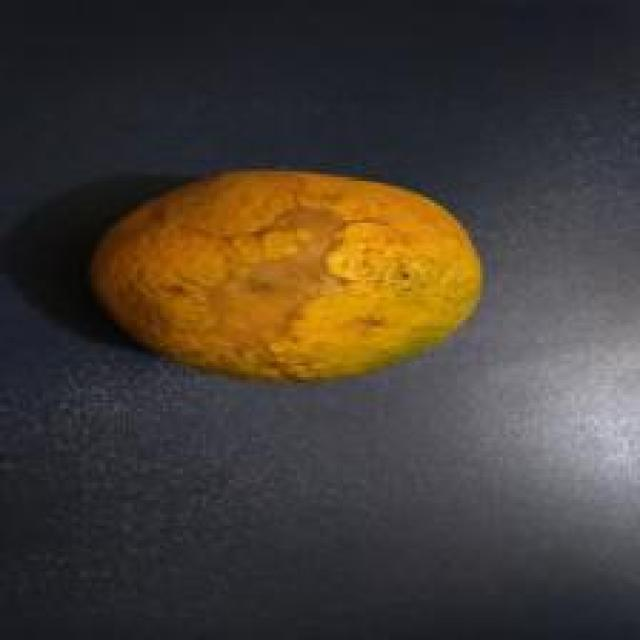overripe: (82, 159, 491, 387)
